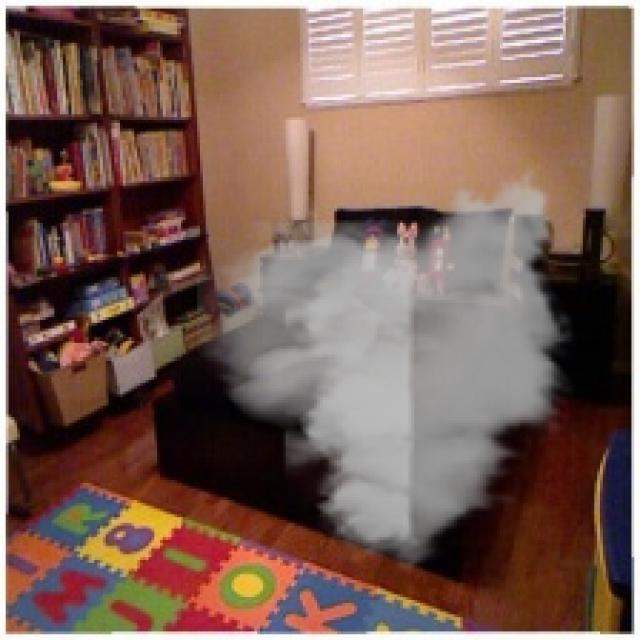smoke: (197, 157, 577, 580)
